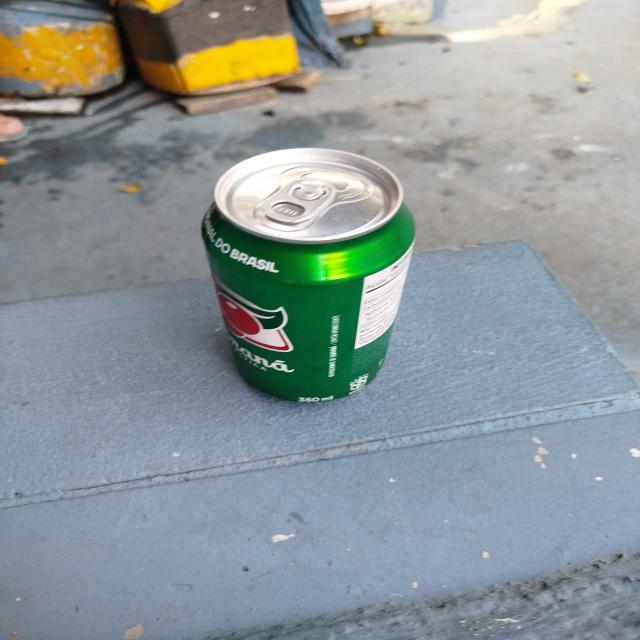Guarana: (200, 148, 416, 400)
